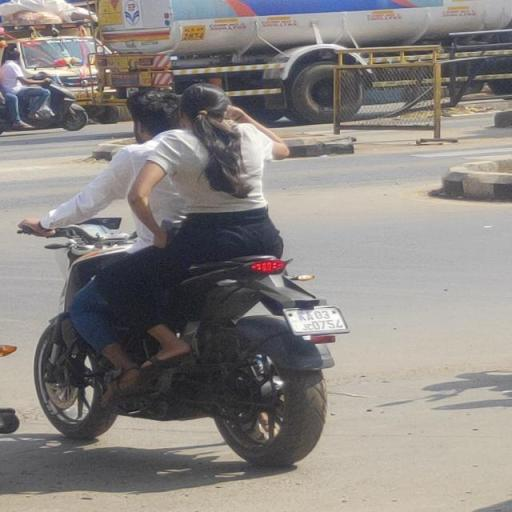bike: (18, 74, 364, 466)
numberplate: (280, 302, 354, 337)
withouthelmet: (182, 84, 226, 126), (130, 90, 173, 132)
